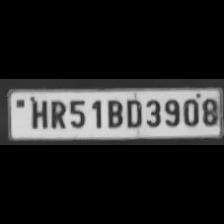0: (180, 96, 198, 126)
1: (88, 97, 104, 129)
3: (144, 96, 160, 128)
5: (65, 97, 87, 129)
8: (199, 96, 219, 126)
9: (162, 96, 180, 126)
B: (103, 96, 123, 128)
D: (123, 96, 143, 128)
H: (26, 97, 48, 129)
R: (46, 97, 66, 129)
